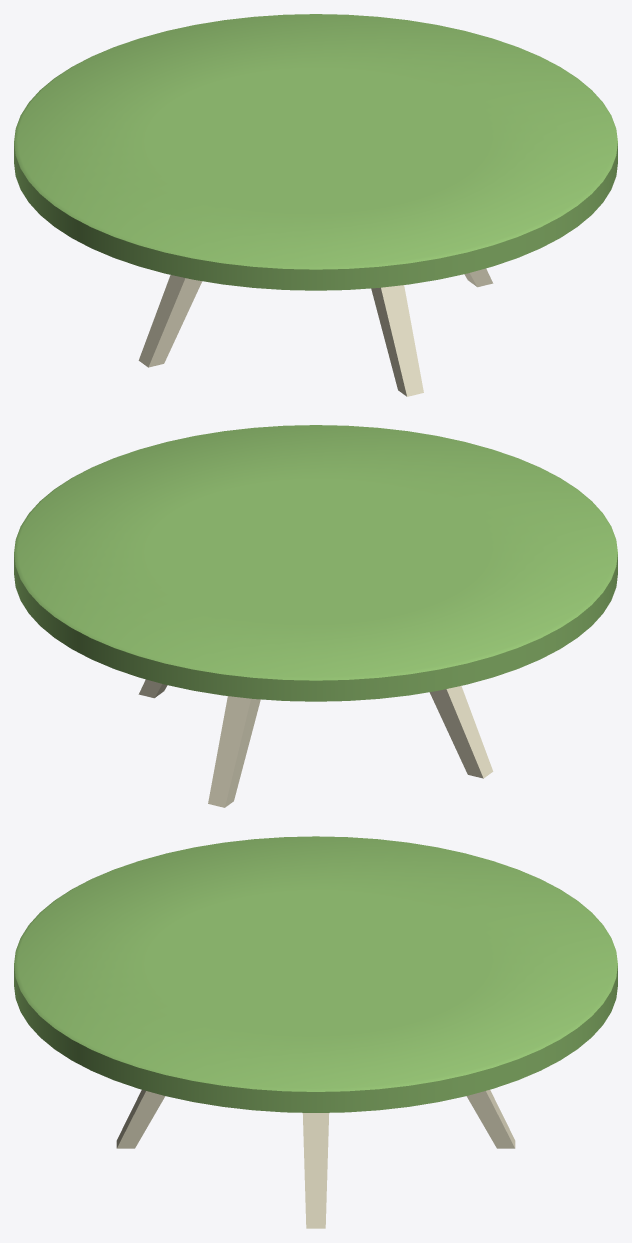
The model's file is table_lightgreen.glb.
The picture shows the model from 3 angles, top to bottom: view 1: azimuth 30°, elevation 25°; view 2: azimuth 150°, elevation 25°; view 3: azimuth 270°, elevation 25°; orthographic projection.
Parts seen in each view (by area): view 1: Cylinder002, Object002, Object001; view 2: Cylinder002, Object004, Object001; view 3: Cylinder002, Object003, Object002, Object004.
Part boxes in pixels (<box>): Cylinder002: <box>14,14,617,290</box>; Object002: <box>371,285,423,396</box>; Object001: <box>138,275,201,367</box>; Cylinder002: <box>14,425,617,701</box>; Object004: <box>208,696,260,807</box>; Object001: <box>430,686,493,778</box>; Cylinder002: <box>14,836,617,1112</box>; Object003: <box>302,1113,329,1228</box>; Object002: <box>116,1090,165,1148</box>; Object004: <box>466,1090,515,1148</box>.
Bounding box in the file's own units: 0.1193 × 0.0397 × 0.1193.
Materials: 1 (1 with a texture image).
